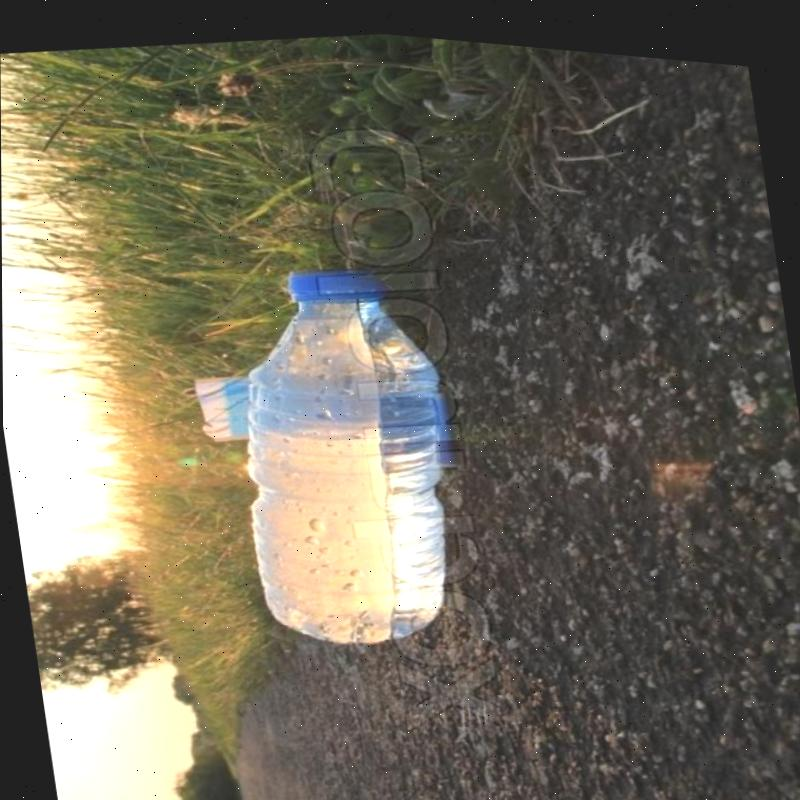botella: (213, 237, 478, 658)
